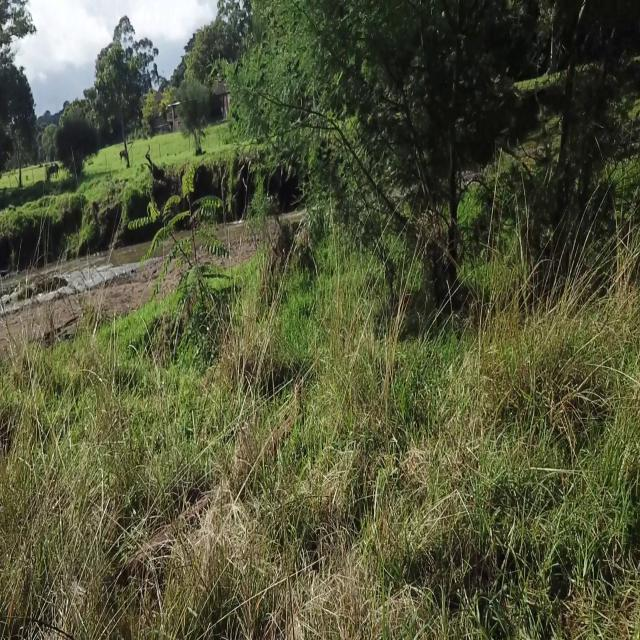Mysore-Thorn-Weed: (126, 163, 235, 358)
